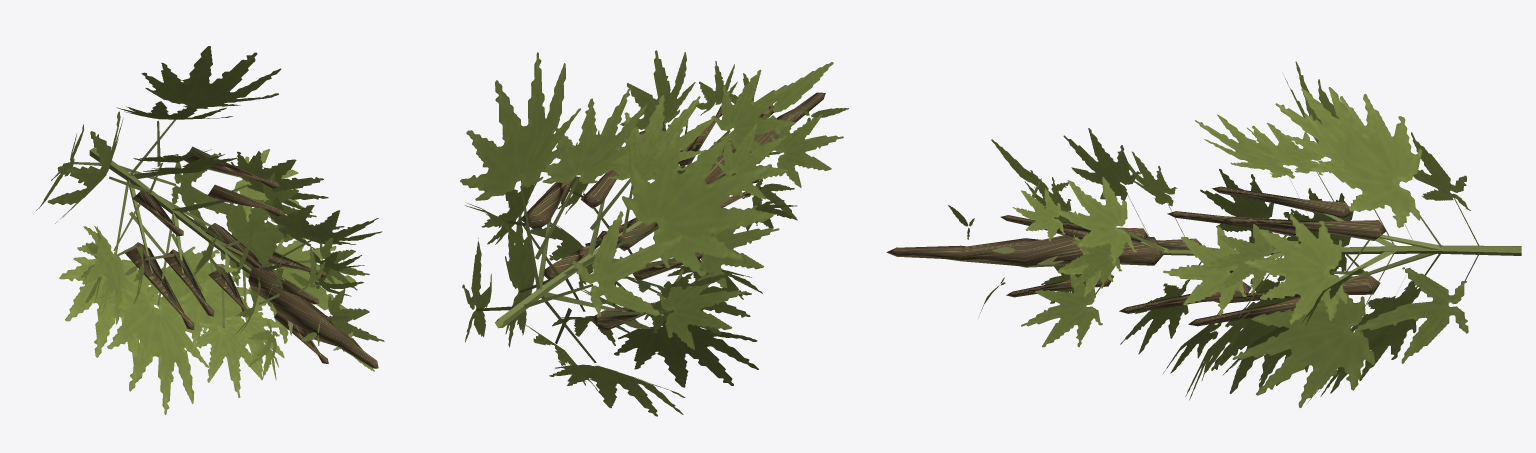
The model's file is p_dark_haze_flowering_c1_cards.obj.
3 renders of one model, left to right at view 1: azimuth 30°, elevation 25°; view 2: azimuth 150°, elevation 25°; view 3: azimuth 270°, elevation 25°, orthographic. The views are drawn at different scales.
Bounding box in the file's own units: 1.33 × 1.47 × 2.03.
1 material, 1 textured.
